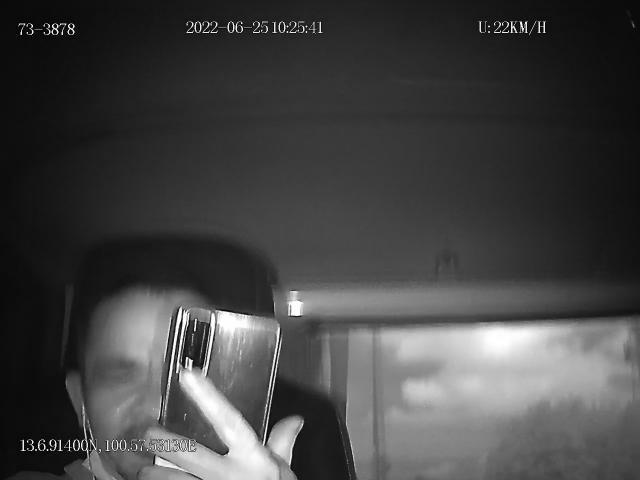PhoneUse: (152, 304, 282, 480)
